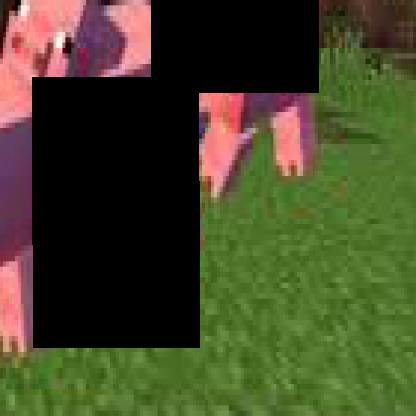minecraft-pigs: (0, 0, 214, 304), (148, 0, 342, 219), (0, 0, 63, 411)
